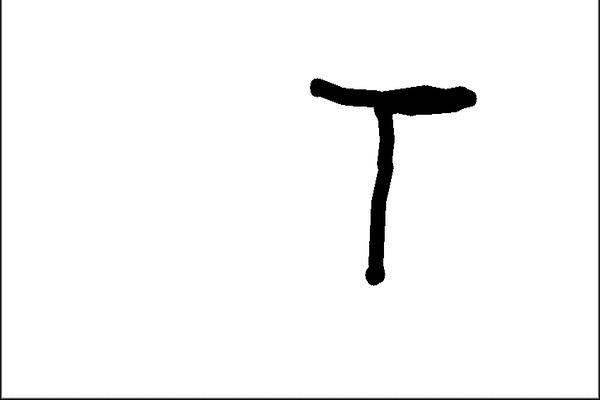T: (309, 69, 484, 290)
